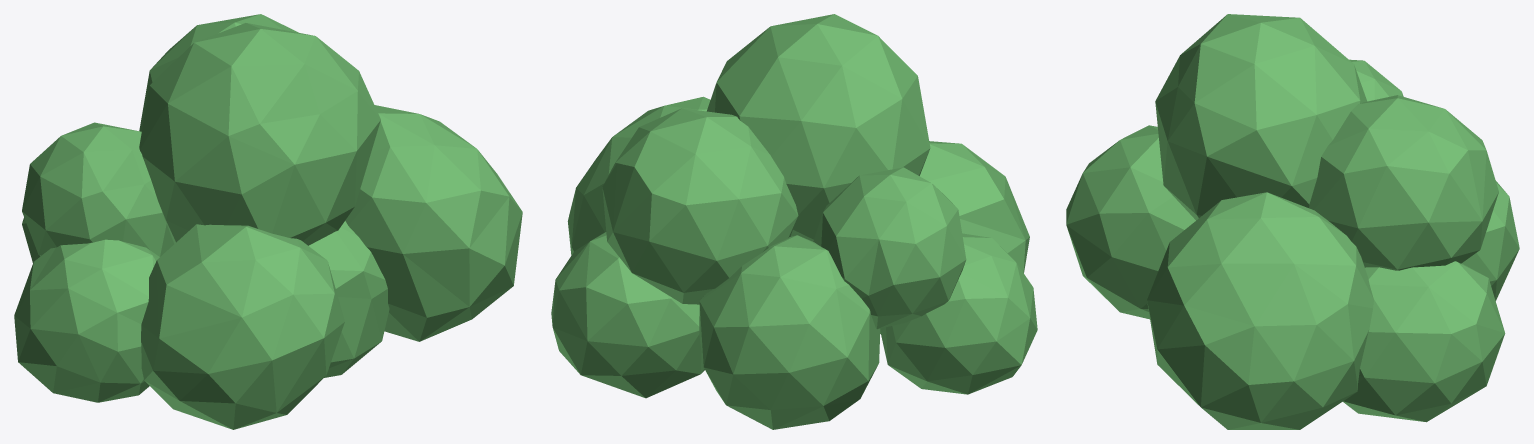
The model's file is nat_bush.glb.
3 views of the same model, side by side, from view 1: azimuth 30°, elevation 25°; view 2: azimuth 150°, elevation 25°; view 3: azimuth 270°, elevation 25° (orthographic). The views are drawn at different scales.
Visible parts, largest first — view 1: geometry_0; view 2: geometry_0; view 3: geometry_0.
Boxes of the visible parts, bbox=[...] form: geometry_0: bbox=[14, 14, 522, 429]; geometry_0: bbox=[551, 14, 1037, 429]; geometry_0: bbox=[1066, 14, 1519, 429].
Size of the model in its own units: 0.125 by 0.0884 by 0.1069.
